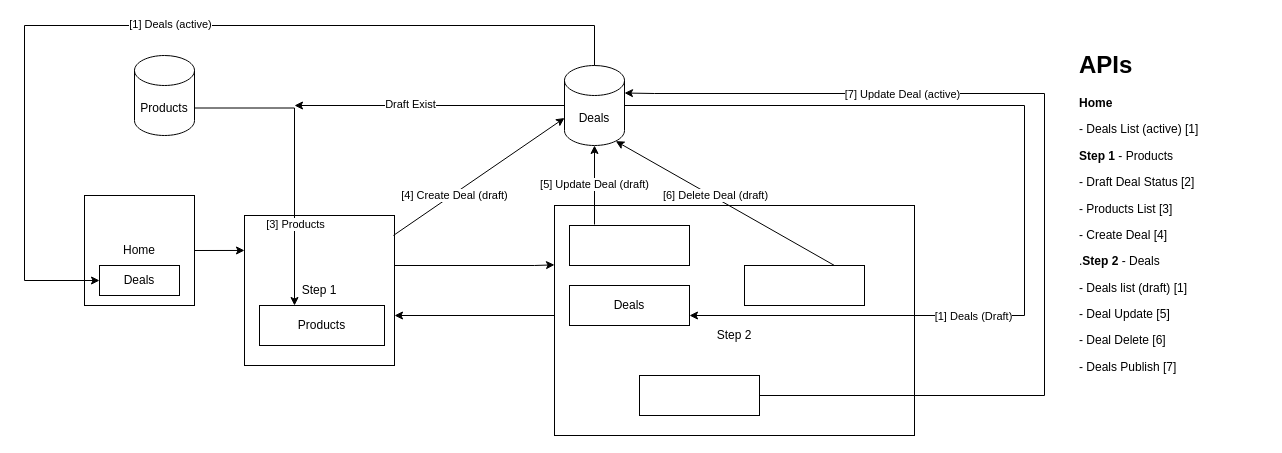
Image size: 1282x453. Some labels were removed from this diagram. The centre of each missing label's shape, as x and y in pixels:
"Delete" belongs at (x=804, y=285).
"Done/Auto Save" belongs at (x=629, y=245).
"Publish" belongs at (x=699, y=395).
